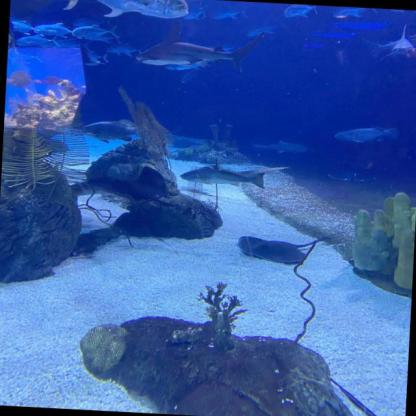fish: (61, 0, 188, 23), (180, 165, 266, 189), (80, 121, 144, 145), (333, 124, 398, 146), (72, 22, 120, 40), (16, 33, 60, 49), (332, 6, 378, 21), (246, 20, 284, 38), (214, 3, 248, 22), (283, 4, 320, 21), (35, 22, 74, 38), (57, 38, 92, 52), (9, 19, 37, 35), (107, 43, 136, 56), (10, 71, 32, 87), (185, 7, 207, 21), (182, 69, 198, 84), (40, 76, 61, 86), (387, 9, 415, 16), (6, 78, 14, 86)
shark: (138, 20, 265, 74), (362, 23, 416, 63), (252, 140, 314, 155), (77, 50, 110, 67)
stingray: (72, 162, 167, 202), (236, 236, 306, 265), (326, 170, 376, 183), (170, 138, 204, 148)
